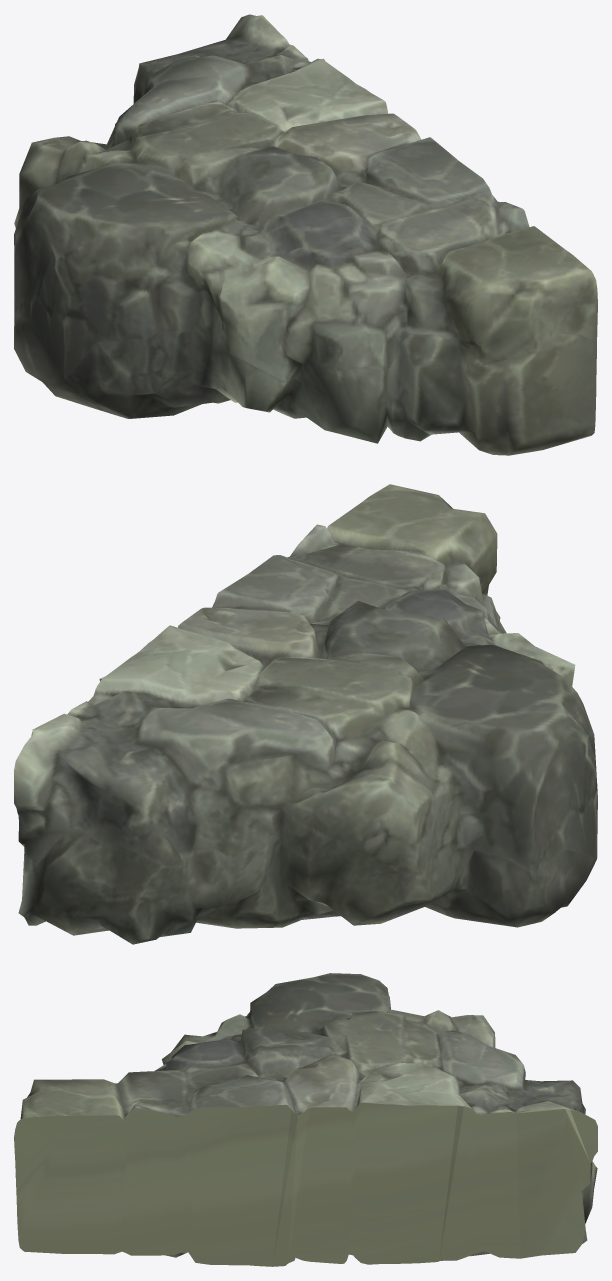
The model's file is RuinsWall_A_Left.fbx.
3 renders of one model, top to bottom at view 1: azimuth 30°, elevation 25°; view 2: azimuth 150°, elevation 25°; view 3: azimuth 270°, elevation 25°, orthographic. The views are drawn at different scales.
Visible parts, largest first — view 1: RuinsWall_A_Left; view 2: RuinsWall_A_Left; view 3: RuinsWall_A_Left.
Part boxes in pixels (left/top/right/bottom): RuinsWall_A_Left: left=14, top=14, right=597, bottom=455; RuinsWall_A_Left: left=14, top=484, right=597, bottom=944; RuinsWall_A_Left: left=14, top=973, right=597, bottom=1266.
Bounding box in the file's own units: 582 × 318 × 984.
